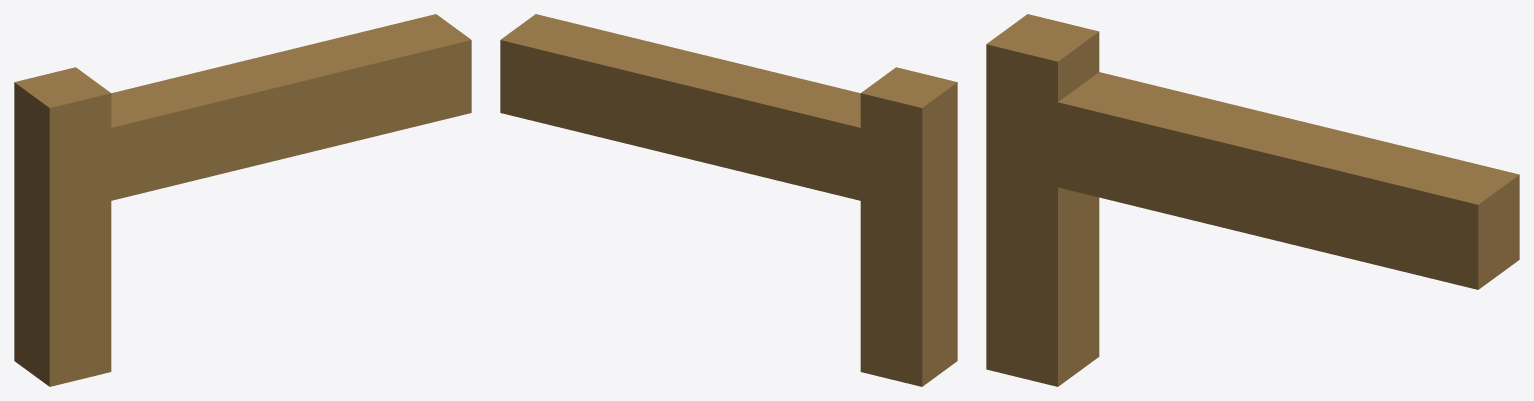
Rendered from Rail.fbx.
The picture shows the model from 3 angles, left to right: view 1: azimuth 30°, elevation 25°; view 2: azimuth 150°, elevation 25°; view 3: azimuth 330°, elevation 25°; orthographic projection. The views are drawn at different scales.
Visible parts, largest first — view 1: Rail; view 2: Rail; view 3: Rail.
Boxes of the visible parts, x1,y1,x2,y2 form: Rail: [14, 14, 471, 386]; Rail: [500, 14, 957, 386]; Rail: [986, 14, 1519, 386].
Size of the model in its own units: 1.01 by 0.6398 by 0.1476.
